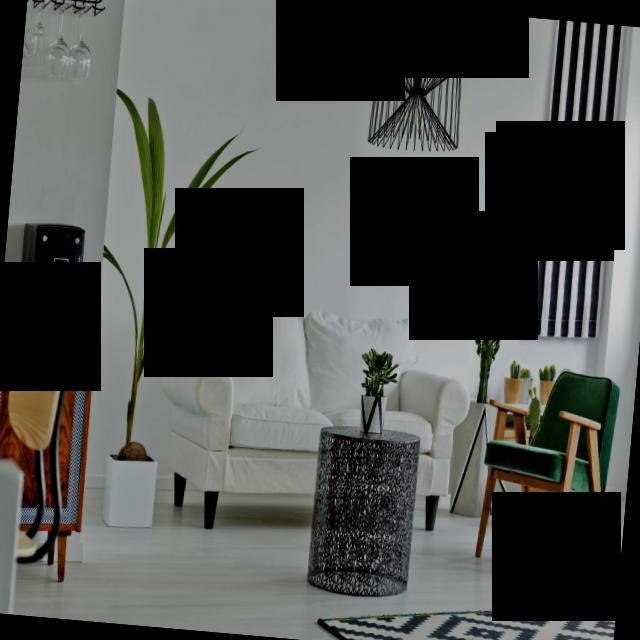modern chair: (474, 360, 625, 590)
modern shelf: (0, 305, 101, 597)
modern sofa: (152, 282, 478, 548)
